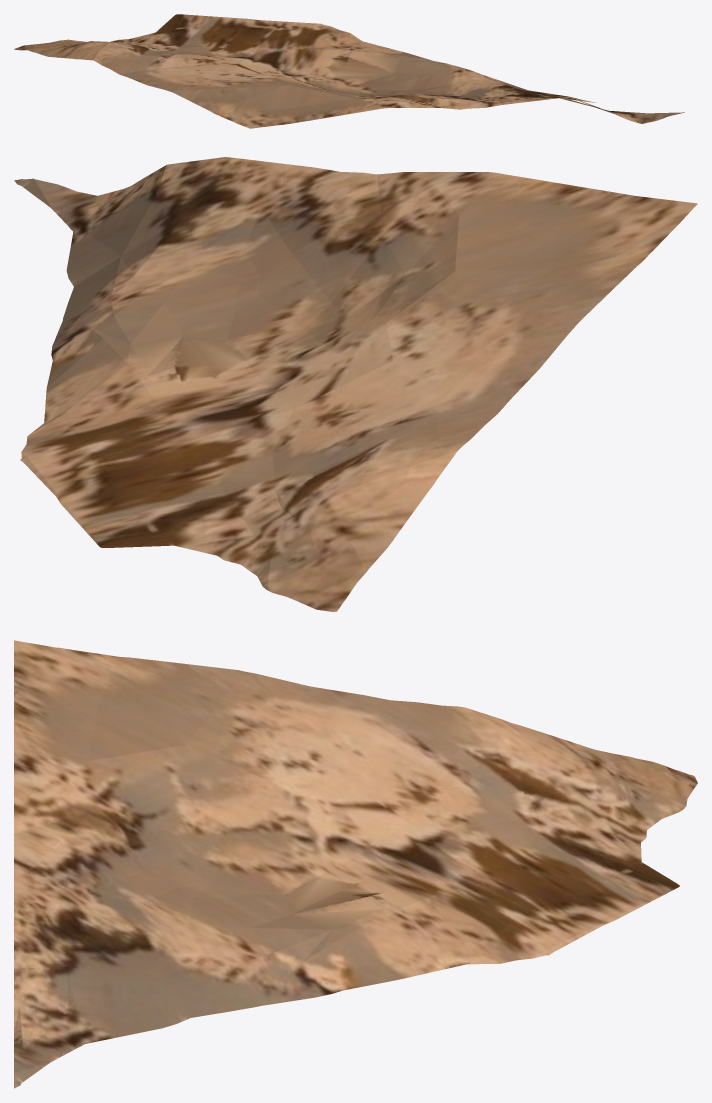
The picture shows the model from 3 angles, top to bottom: view 1: azimuth 30°, elevation 25°; view 2: azimuth 150°, elevation 25°; view 3: azimuth 270°, elevation 25°; orthographic projection. The views are drawn at different scales.
Size of the model in its own units: 1.22 by 0.2455 by 1.13.
Materials: 1 (1 with a texture image).
